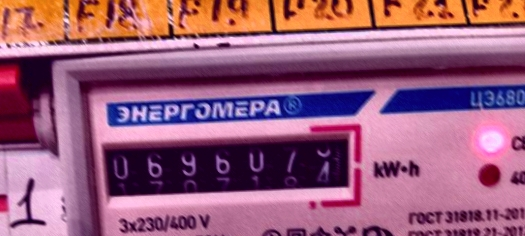0: (246, 143, 265, 174), (111, 151, 129, 180)
4: (314, 156, 331, 185)
6: (213, 145, 231, 175), (145, 149, 163, 178)
7: (280, 143, 300, 175)
9: (178, 148, 197, 177)
screen: (89, 120, 368, 213)
